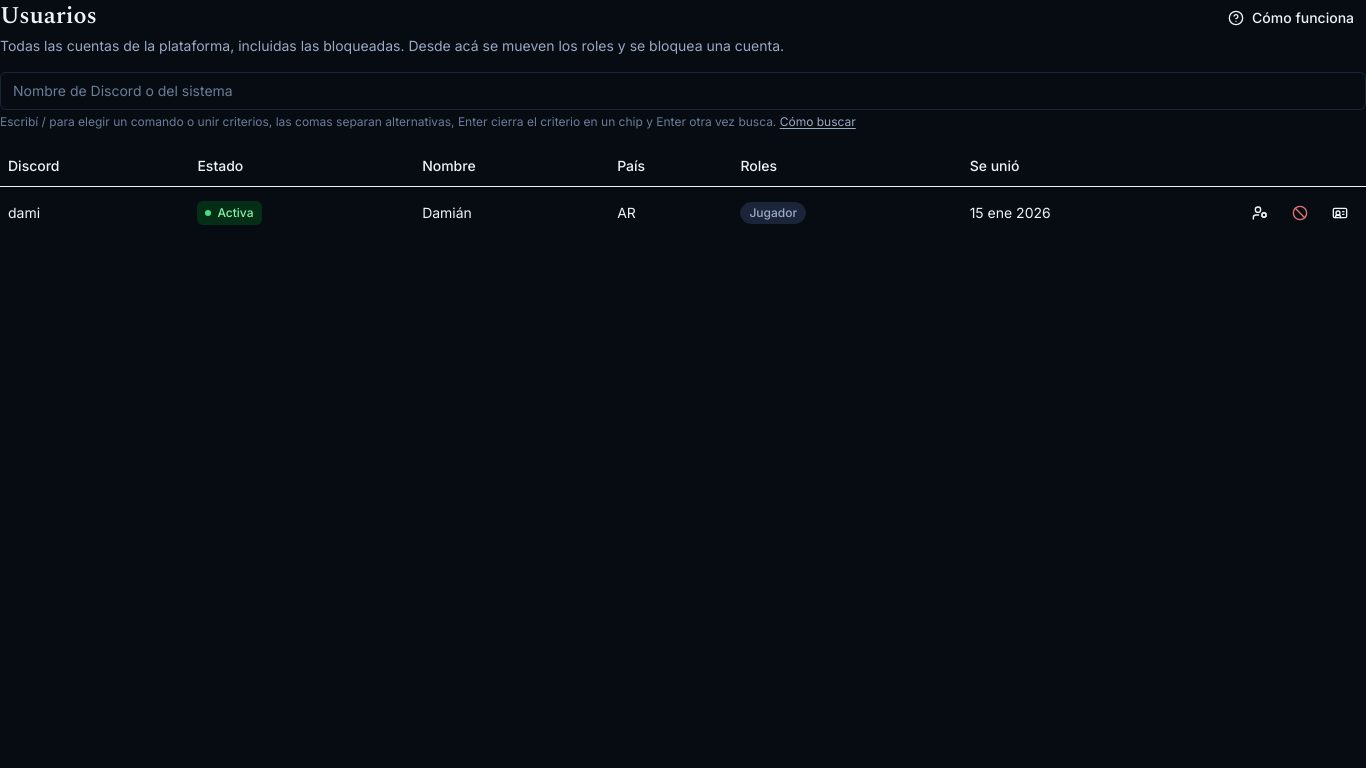
it: AdminUsersPage › an admin is offered Player and Master and no trace of Admin or Owner
Click the button named "Cambiar roles": (1260, 212) top-left (1242, 194), bottom-right (1278, 230)
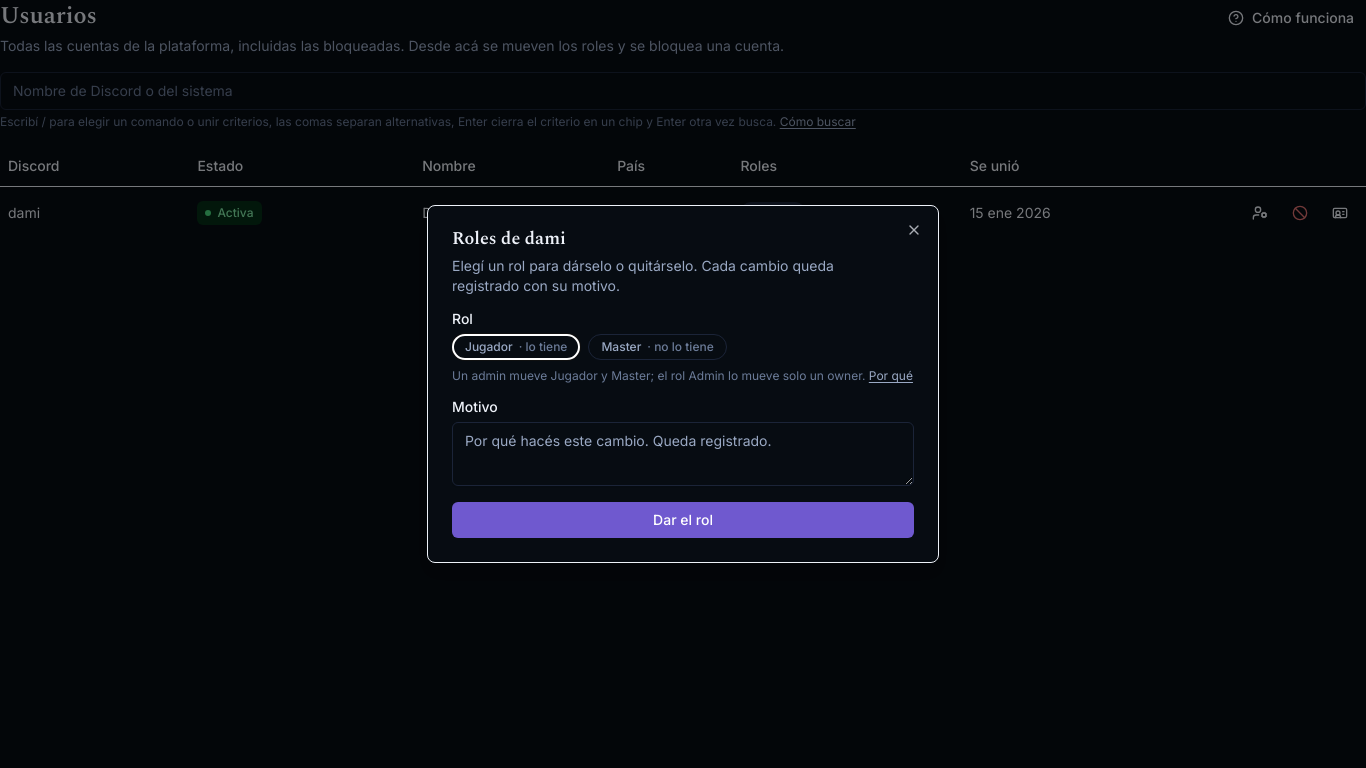
Check: the button "Jugador· lo tiene" is shown, box top-left (452, 334), bottom-right (580, 360)
Check: the button "Master· no lo tiene" is shown, box top-left (588, 334), bottom-right (727, 360)
Check: the text "el rol Admin lo mueve solo un owner" is shown, box top-left (452, 368), bottom-right (865, 383)
